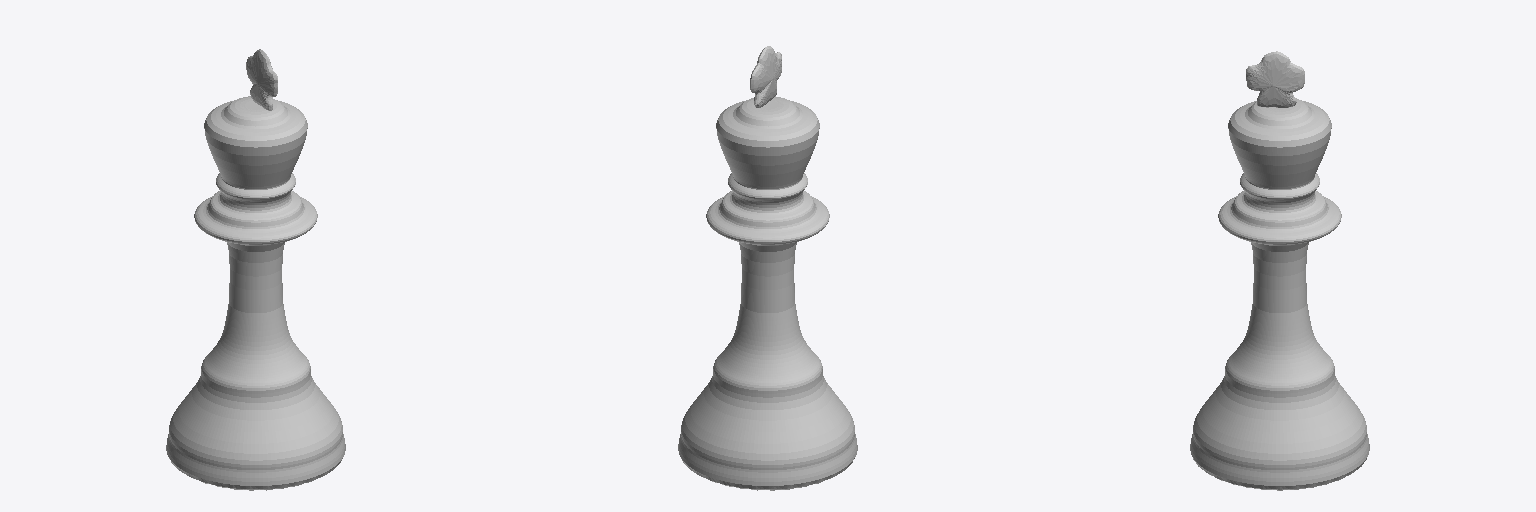
The model's file is kingwh.obj.
The picture shows the model from 3 angles: view 1: azimuth 30°, elevation 25°; view 2: azimuth 150°, elevation 25°; view 3: azimuth 270°, elevation 25°; orthographic projection.
Parts seen in each view (by area): view 1: Cylinder; view 2: Cylinder; view 3: Cylinder.
Part boxes in pixels (left/top/right/bottom): Cylinder: left=166, top=49, right=345, bottom=490; Cylinder: left=678, top=46, right=857, bottom=490; Cylinder: left=1190, top=51, right=1369, bottom=490.
Size of the model in its own units: 1.98 by 5.03 by 1.98.